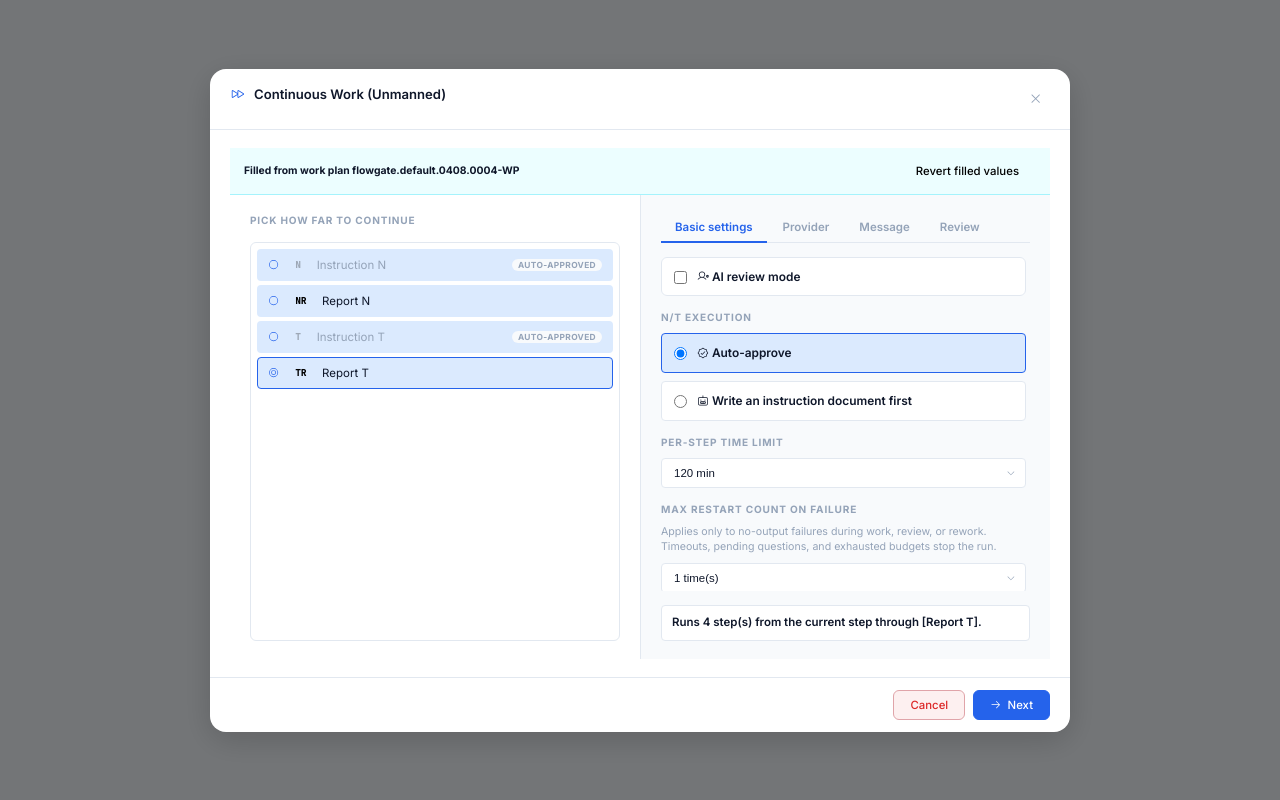
Test: ContinuousWorkDialog reads the durable sequence snapshot (0554 T0012) › never walks over a mention the person just typed
Click the button with class "cwd-tab" showing "Message" at point(885, 228), box [845,212,924,242]
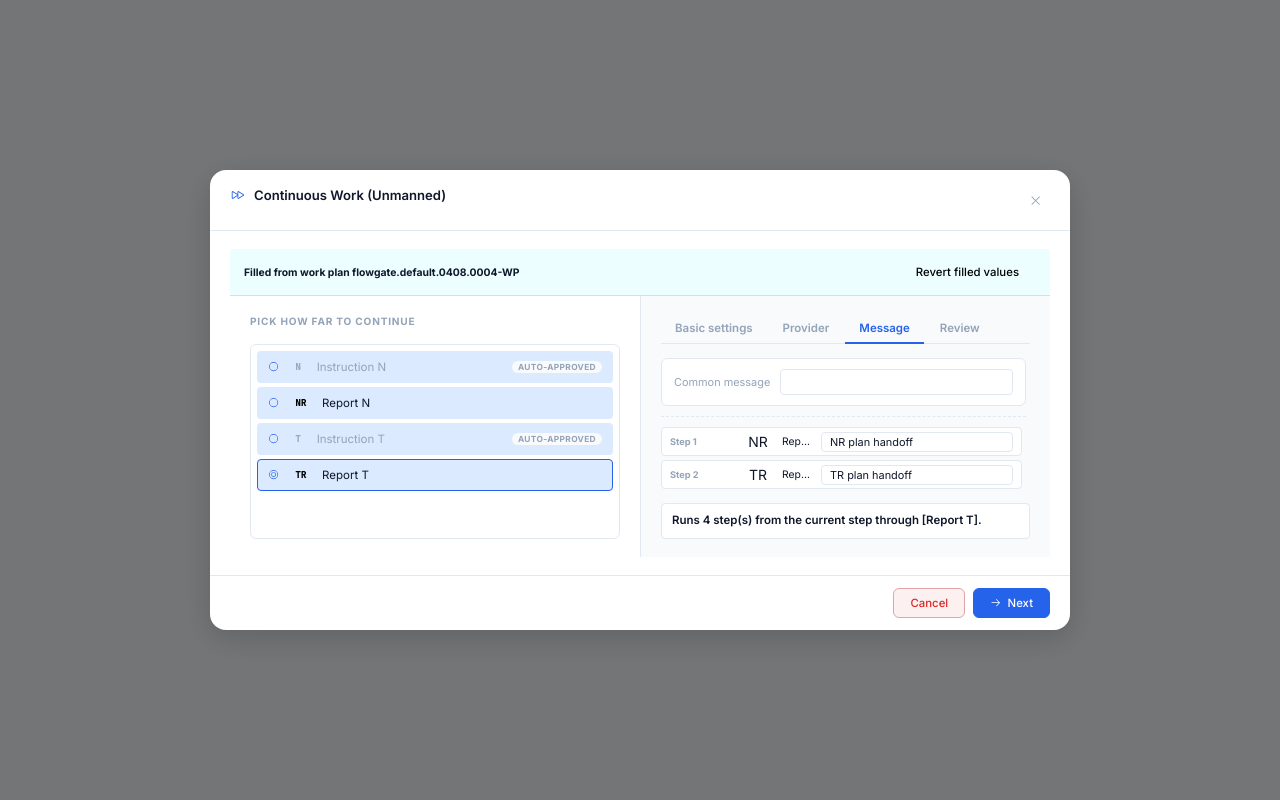
Replace the text in the field with class "cwd-override-message-input" in the row of "Step 1" with "typed by hand" at point(917, 442), box [821,432,1013,452]
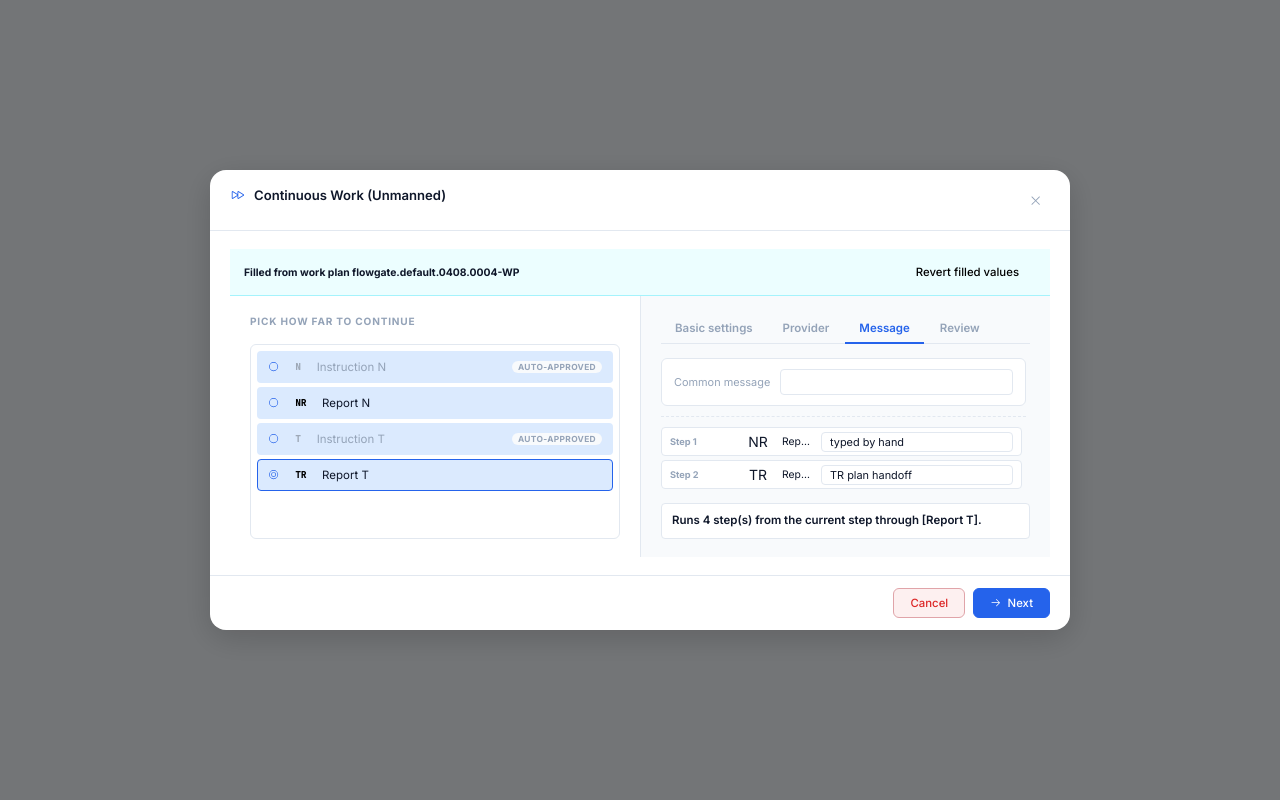
Click the button with class "cwd-tab" showing "Basic settings" at point(714, 329), box [661,314,767,344]
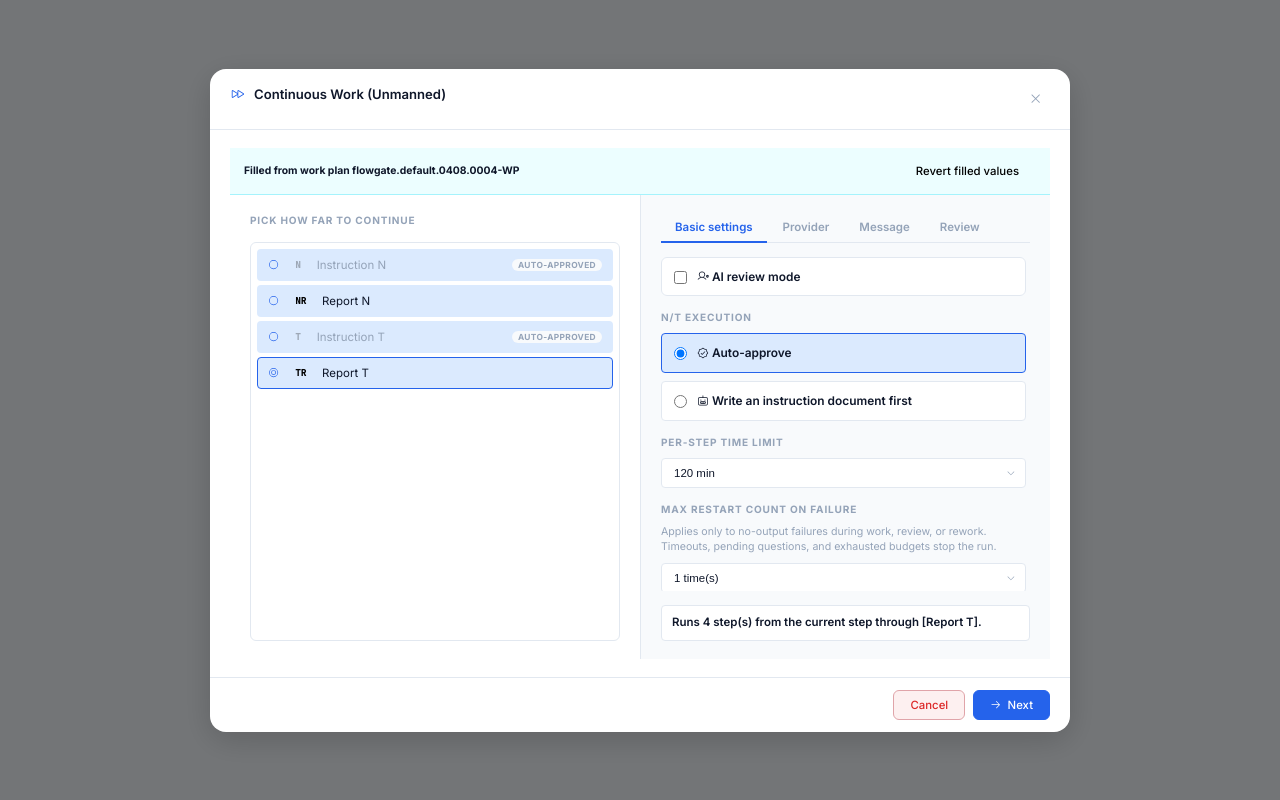
Click the radio button labelled "Write an instruction document first" at point(680, 402), box [674,395,687,408]
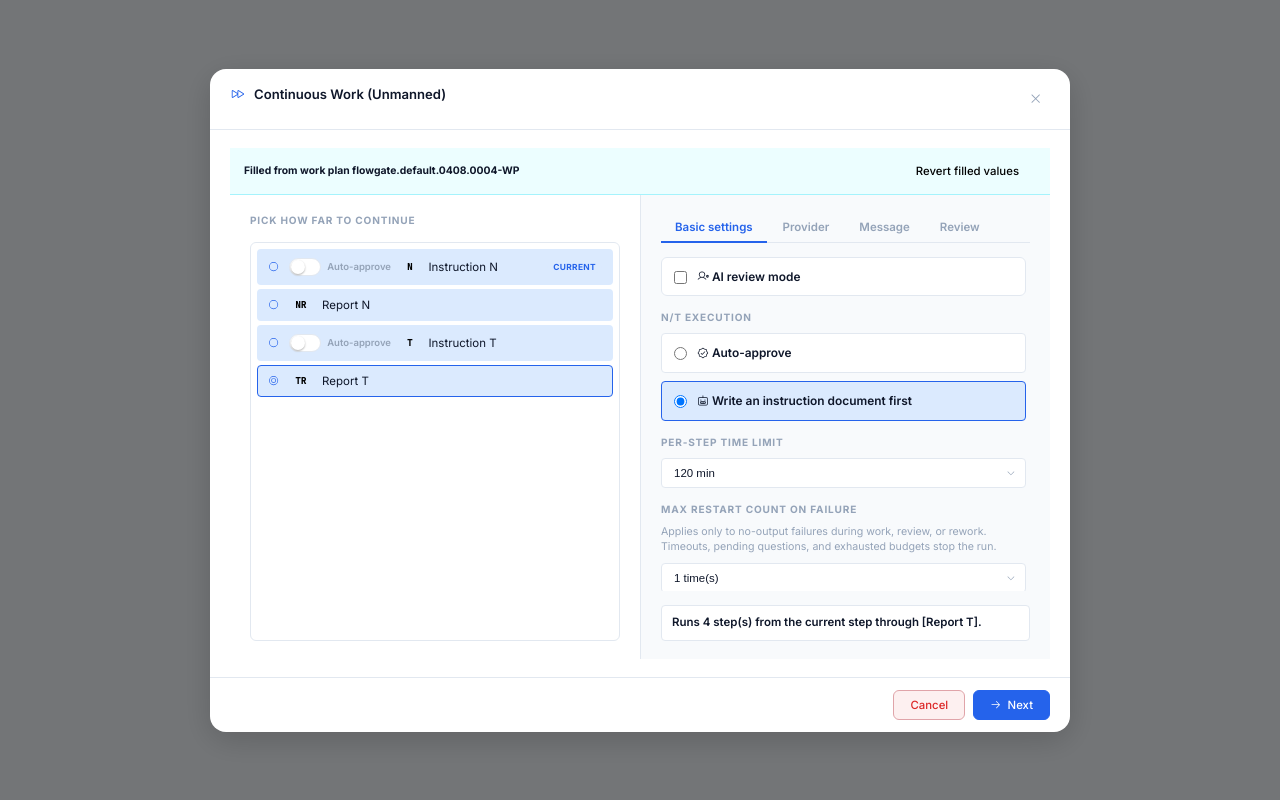
Click the button with class "cwd-tab" showing "Provider" at point(806, 228), box [769,212,843,242]
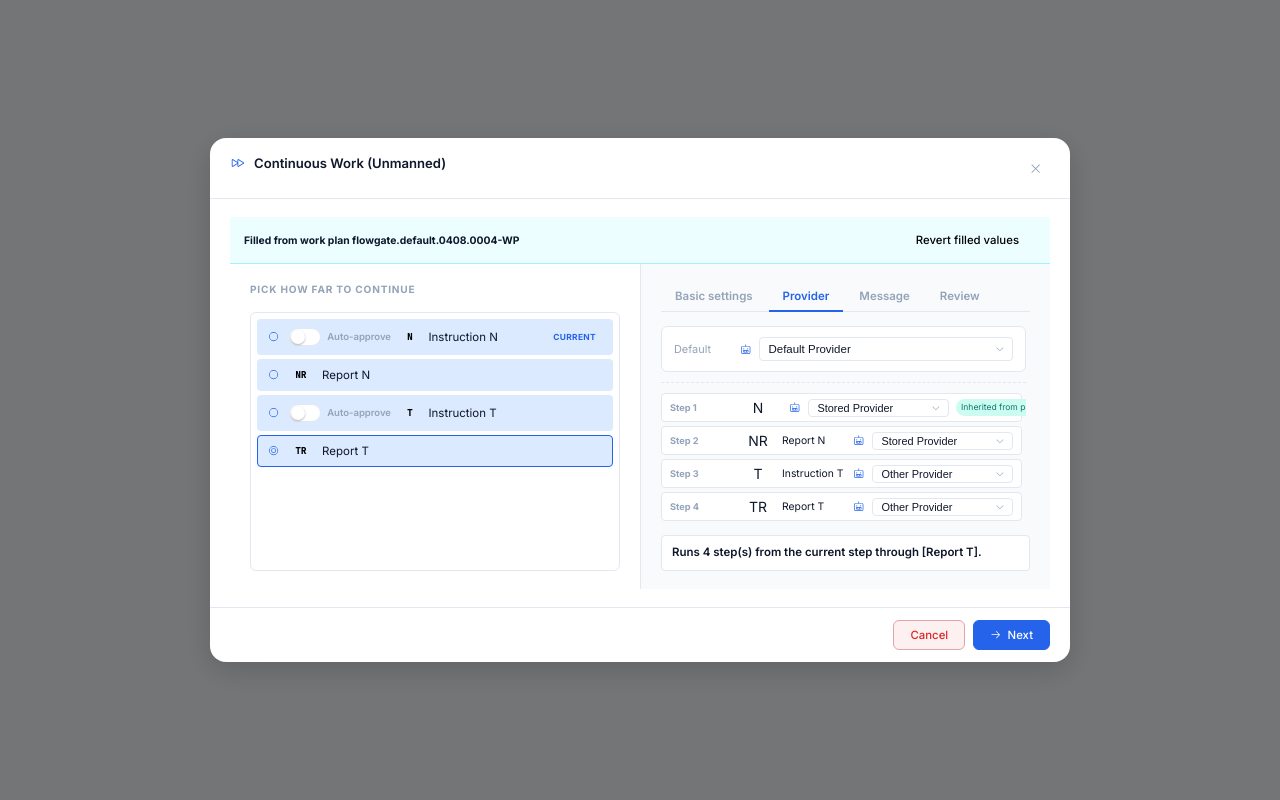
Click the button with class "cwd-tab" showing "Message" at point(885, 297), box [845,282,924,312]
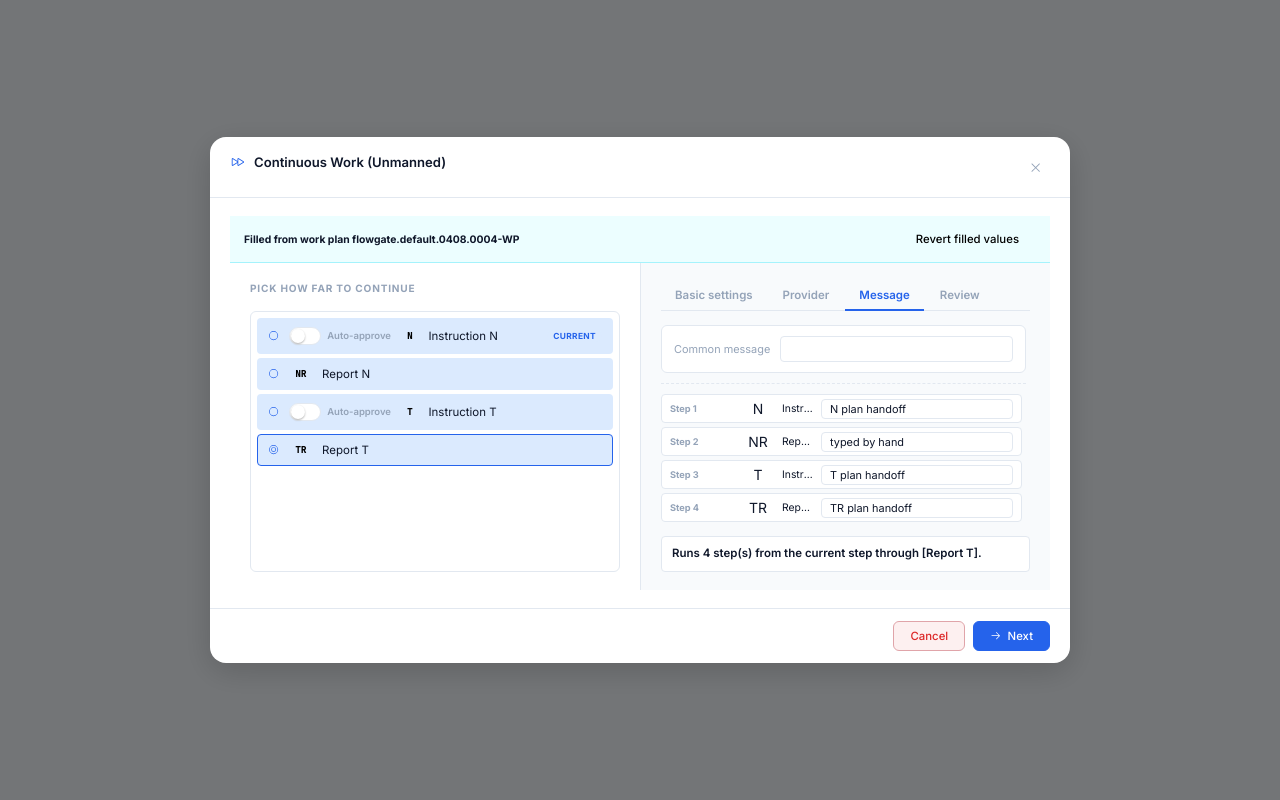
Check: the field with class "cwd-override-message-input" in the row of "Step 2" holds "typed by hand", box [821,432,1013,452]
